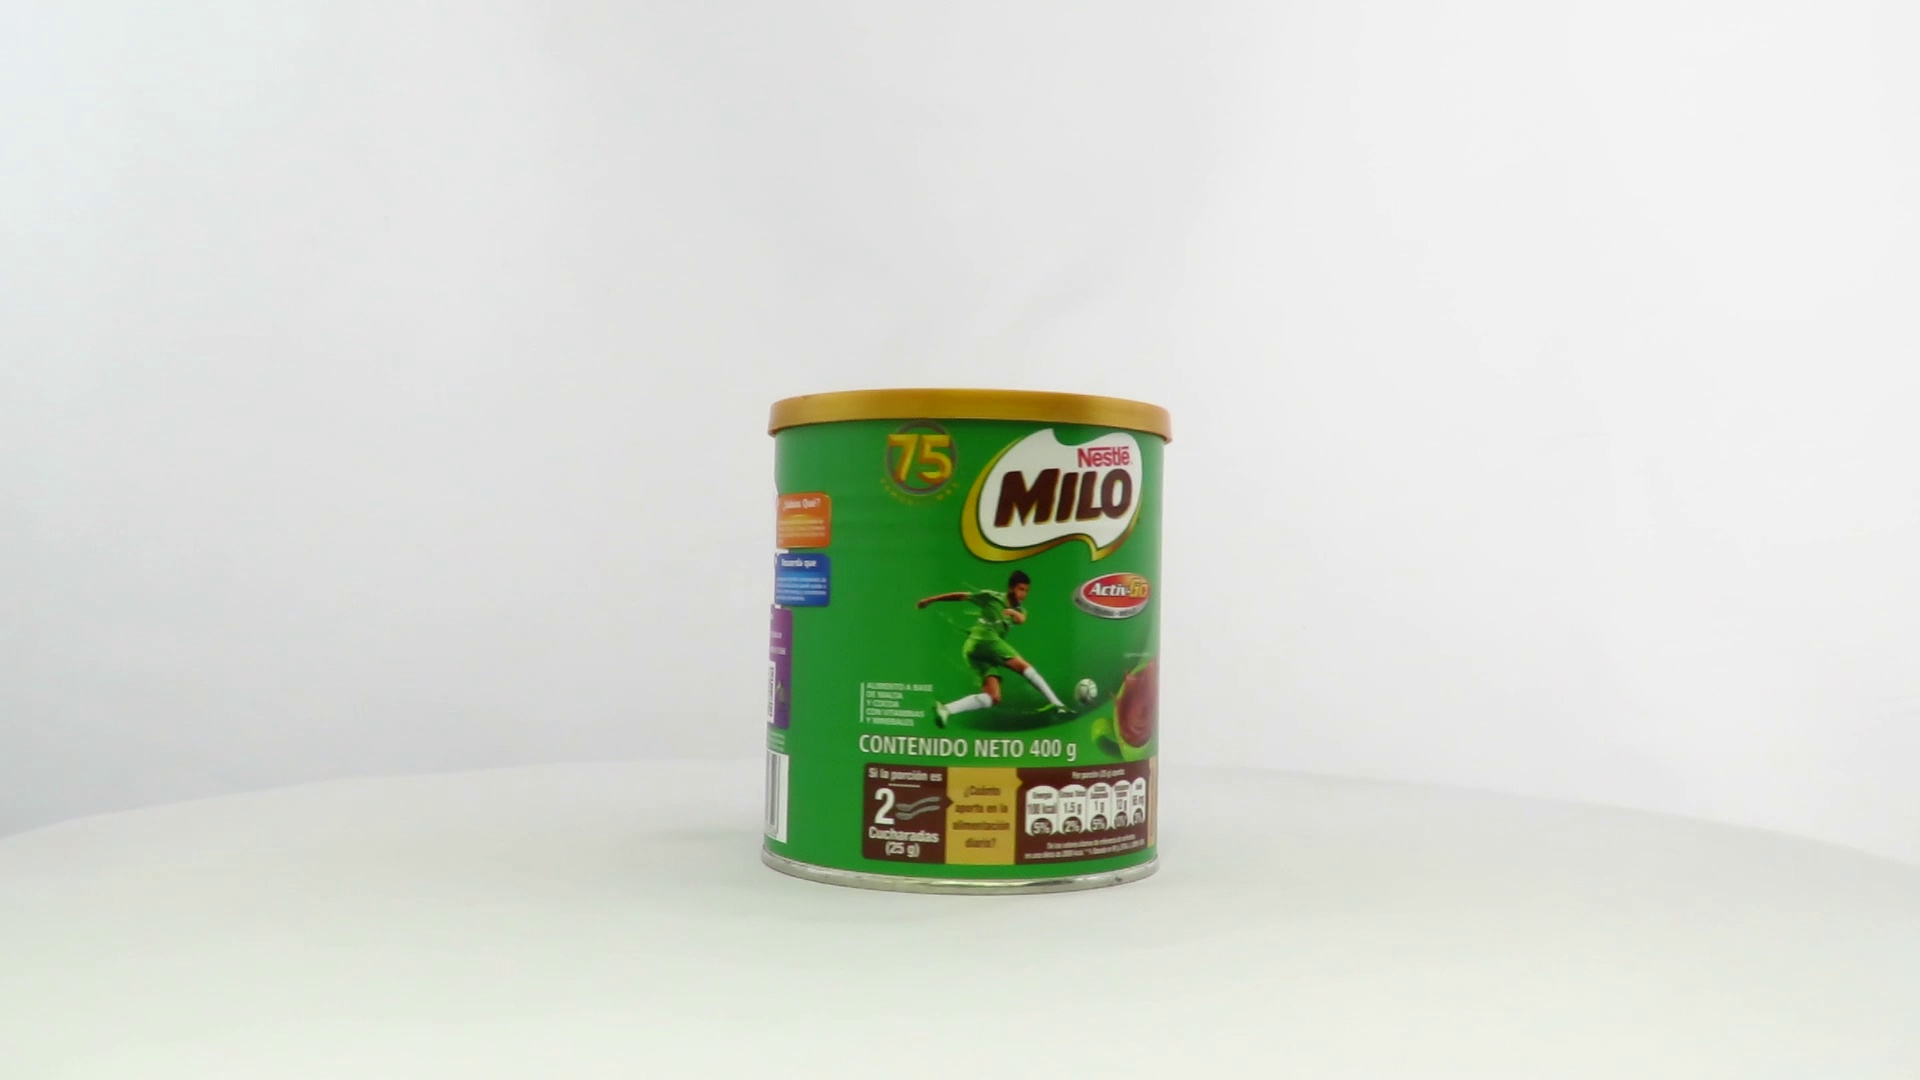COL0170203LAT40000: (756, 382, 1179, 902)
